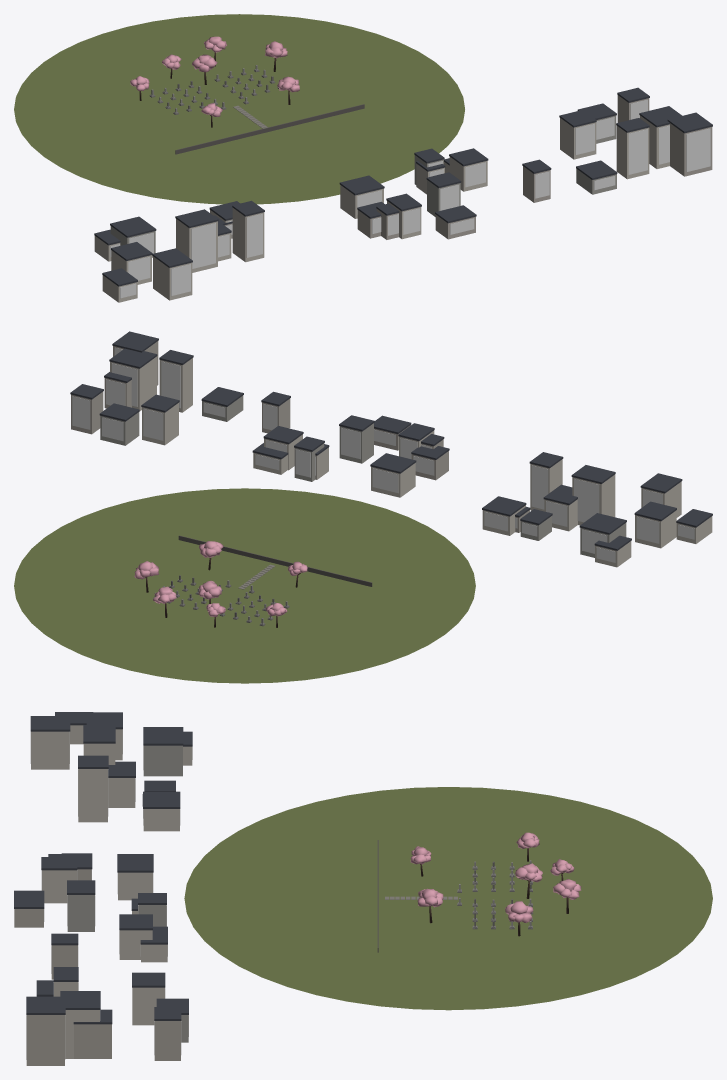
Rendered from graves.glb.
3 renders of one model, top to bottom at view 1: azimuth 30°, elevation 25°; view 2: azimuth 150°, elevation 25°; view 3: azimuth 270°, elevation 25°, orthographic. The views are drawn at different scales.
Parts seen in each view (by area): view 1: graves_0_0, graves_1_-2, graves_-1_-2, graves_0_-2, graves_-2_-2, graves_-1_0, graves_-1_-1, graves_0_-1; view 2: graves_0_0, graves_-1_-2, graves_1_-2, graves_0_-2, graves_-2_-2, graves_-1_0, graves_-1_-1, graves_0_-1; view 3: graves_0_0, graves_1_-2, graves_-1_-2, graves_0_-2, graves_-2_-2, graves_-1_0, graves_-1_-1, graves_0_-1.
Part boxes in pixels (left/top/right/bottom): graves_0_0: left=14, top=14, right=464, bottom=204; graves_1_-2: left=559, top=87, right=712, bottom=179; graves_-1_-2: left=175, top=175, right=421, bottom=272; graves_0_-2: left=414, top=148, right=617, bottom=239; graves_-2_-2: left=94, top=216, right=192, bottom=302; graves_-1_0: left=130, top=54, right=242, bottom=114; graves_-1_-1: left=175, top=103, right=270, bottom=154; graves_0_-1: left=270, top=76, right=364, bottom=131; graves_0_0: left=14, top=488, right=475, bottom=683; graves_-1_-2: left=370, top=423, right=615, bottom=540; graves_1_-2: left=70, top=331, right=193, bottom=445; graves_0_-2: left=201, top=387, right=411, bottom=481; graves_-2_-2: left=579, top=473, right=712, bottom=567; graves_-1_0: left=202, top=581, right=289, bottom=627; graves_-1_-1: left=243, top=559, right=372, bottom=587; graves_0_-1: left=178, top=535, right=275, bottom=570; graves_0_0: left=184, top=787, right=712, bottom=1010; graves_1_-2: left=26, top=967, right=188, bottom=1065; graves_-1_-2: left=41, top=725, right=180, bottom=903; graves_0_-2: left=14, top=880, right=167, bottom=996; graves_-2_-2: left=30, top=712, right=192, bottom=776; graves_-1_0: left=448, top=832, right=574, bottom=899; graves_-1_-1: left=377, top=840, right=447, bottom=899; graves_0_-1: left=377, top=888, right=443, bottom=952.
Bounding box in the file's own units: 179 × 14.21 × 159.
